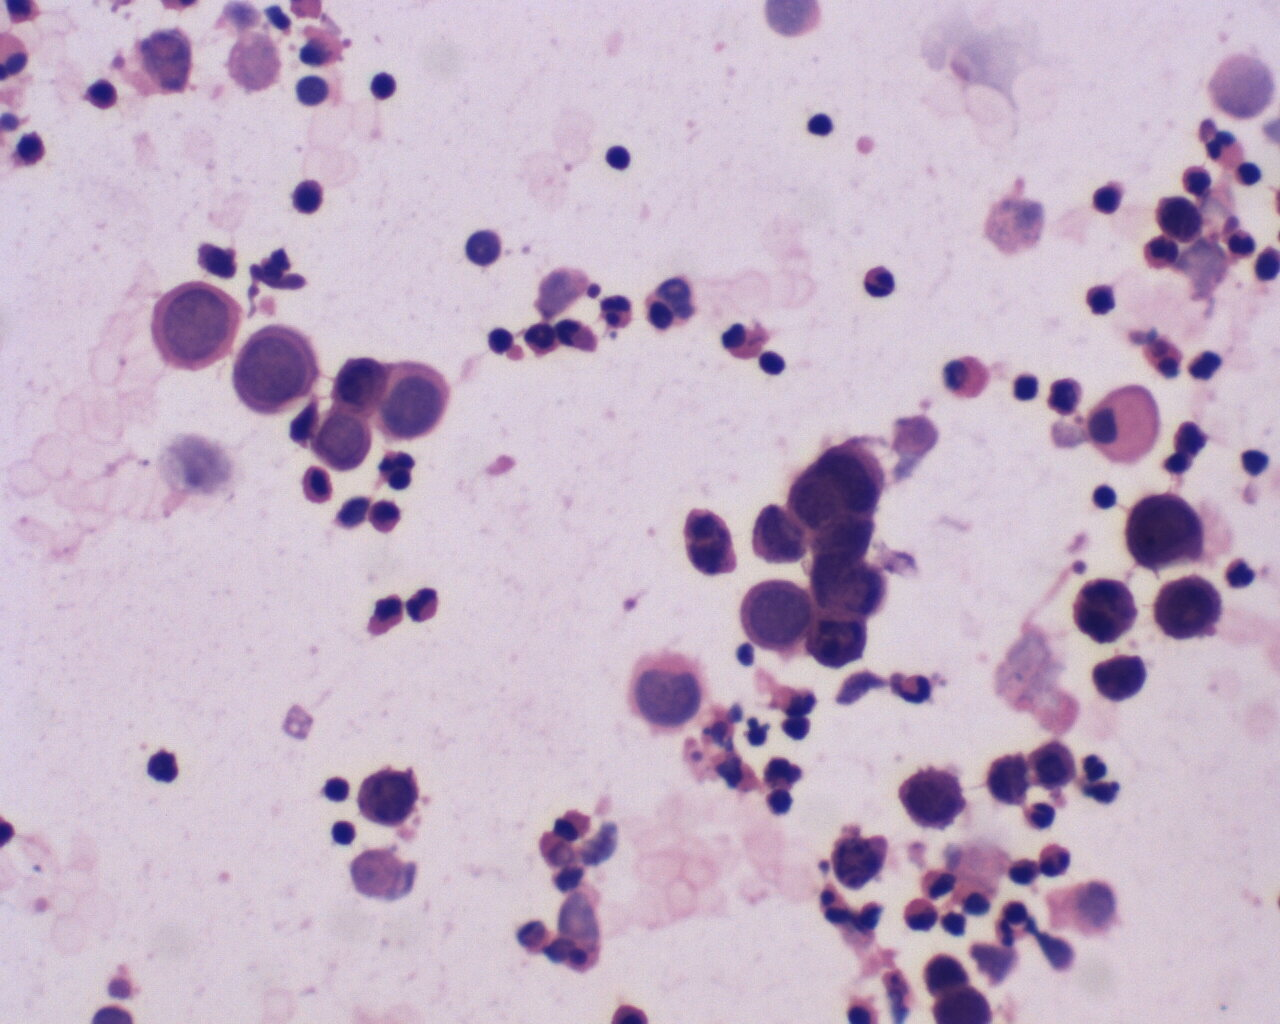ab: (144, 272, 241, 376), (229, 315, 321, 410), (1121, 489, 1213, 574), (736, 577, 815, 658), (383, 356, 453, 447), (1149, 574, 1228, 651), (1071, 576, 1144, 644), (899, 766, 965, 835), (808, 609, 872, 671), (358, 765, 421, 828), (313, 410, 374, 473), (1091, 651, 1149, 705), (1154, 195, 1206, 245)
histo: (1090, 380, 1164, 464)
lymph: (1087, 178, 1126, 216), (316, 769, 354, 807), (325, 811, 362, 851), (598, 140, 636, 177), (751, 349, 790, 385), (802, 107, 841, 140), (289, 178, 325, 213), (1089, 476, 1120, 512), (368, 70, 400, 101)
meso: (941, 348, 999, 409)
neutro: (600, 294, 637, 333), (405, 585, 442, 626), (861, 265, 899, 303), (1038, 841, 1075, 879), (522, 321, 555, 359), (899, 672, 932, 705)
